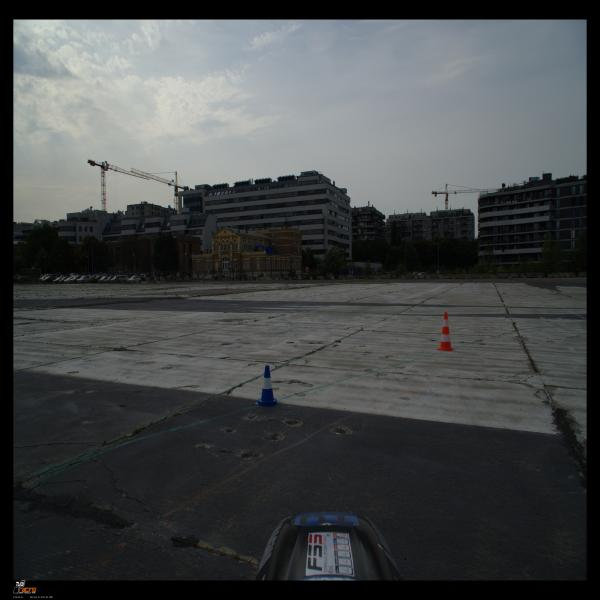blue_cone: (254, 365, 280, 407)
large_orange_cone: (436, 312, 455, 351)
orange_cone: (460, 280, 463, 284), (492, 280, 495, 284), (512, 280, 515, 284), (549, 279, 551, 284), (474, 280, 476, 284), (506, 279, 508, 283), (550, 279, 552, 283)
